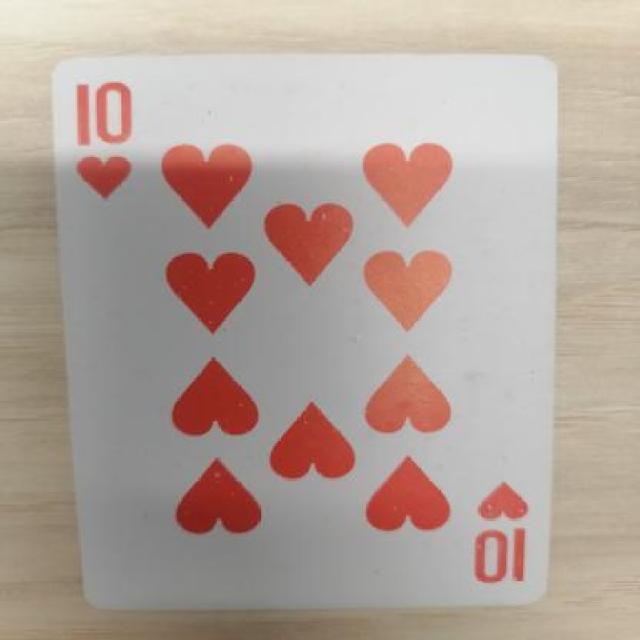10H: (53, 77, 155, 228), (457, 474, 545, 603)
